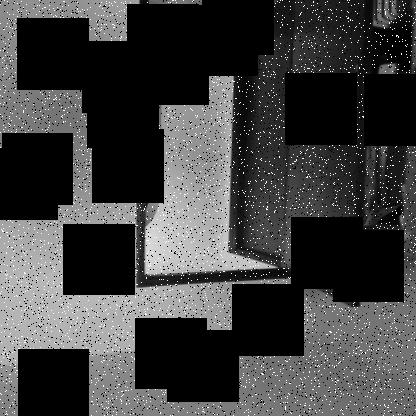Porte: (136, 1, 373, 308)
